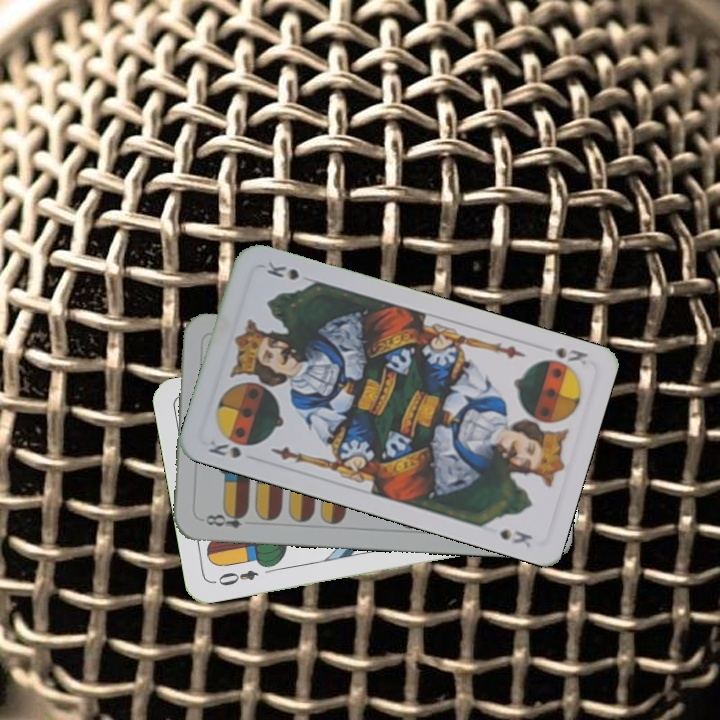E8: (197, 507, 250, 531)
EO: (214, 566, 261, 589)
SK: (536, 343, 591, 374), (204, 436, 244, 461)
